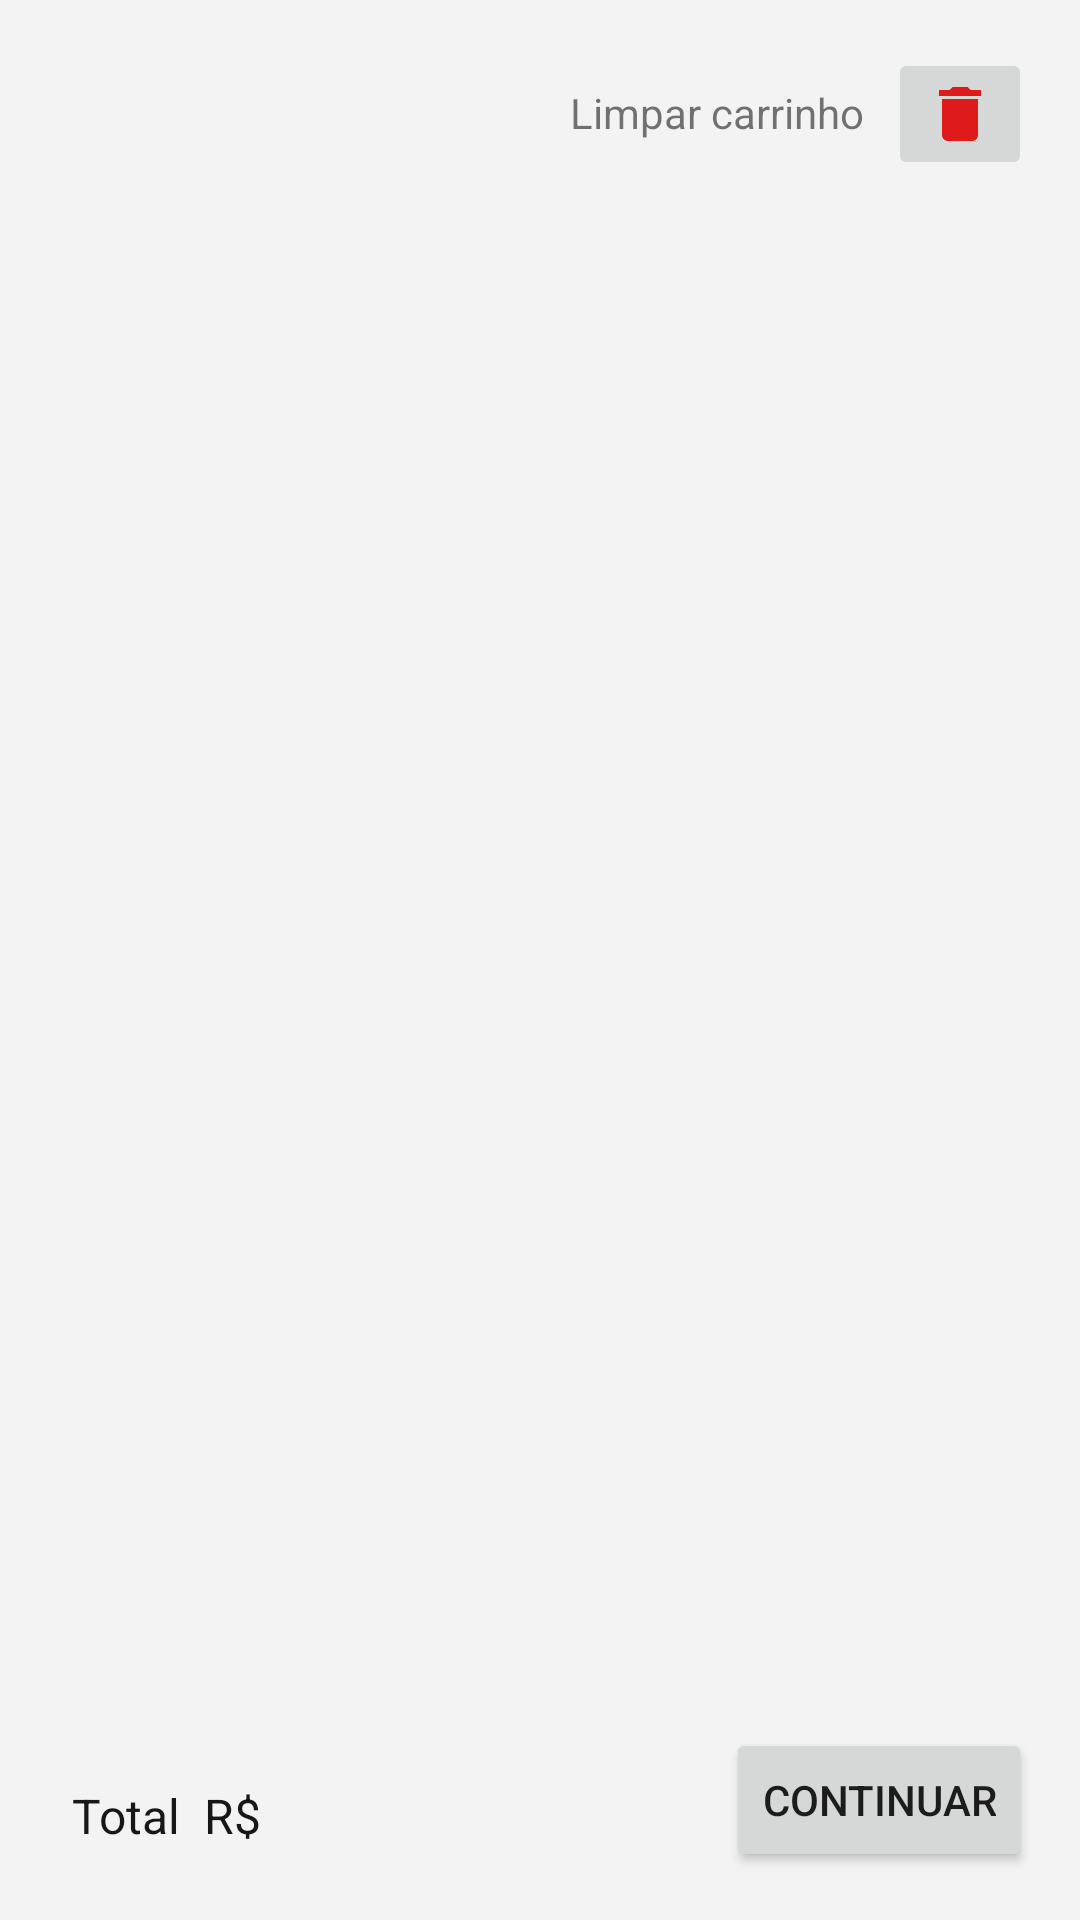

Icons on this 1080 x 1920 Android screen, each with its box as bbox=(x1, y1, x2, y2):
lixeira: bbox=(900, 66, 1020, 162)
